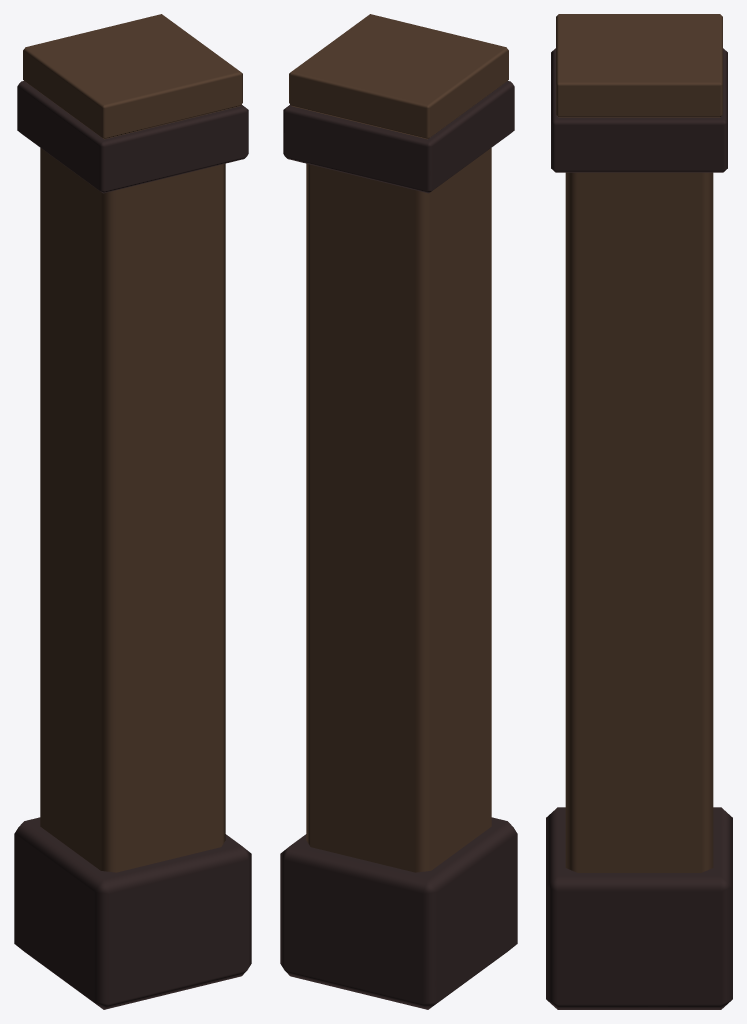
The model's file is railcar-post-x.d6389c10.glb.
3 views of the same model, side by side, from view 1: azimuth 30°, elevation 25°; view 2: azimuth 150°, elevation 25°; view 3: azimuth 270°, elevation 25° (orthographic). The views are drawn at different scales.
Visible parts, largest first — view 1: body; view 2: body; view 3: body.
Boxes of the visible parts, <box> form: body: <box>14,14,251,1009</box>; body: <box>280,14,517,1009</box>; body: <box>546,14,732,1009</box>.
Size of the model in its own units: 0.38 by 2.08 by 0.38.
